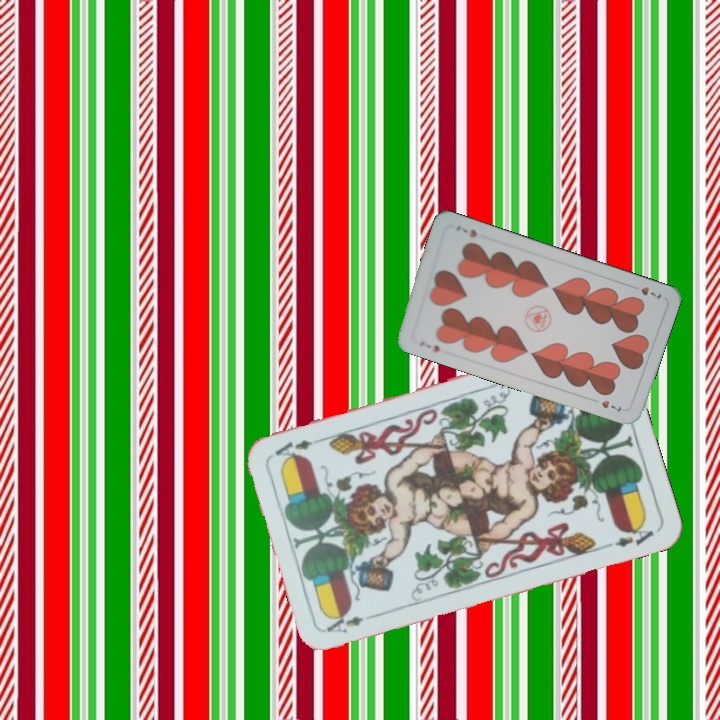EA: (322, 611, 366, 636)
H7: (626, 281, 664, 302), (416, 337, 442, 355)
